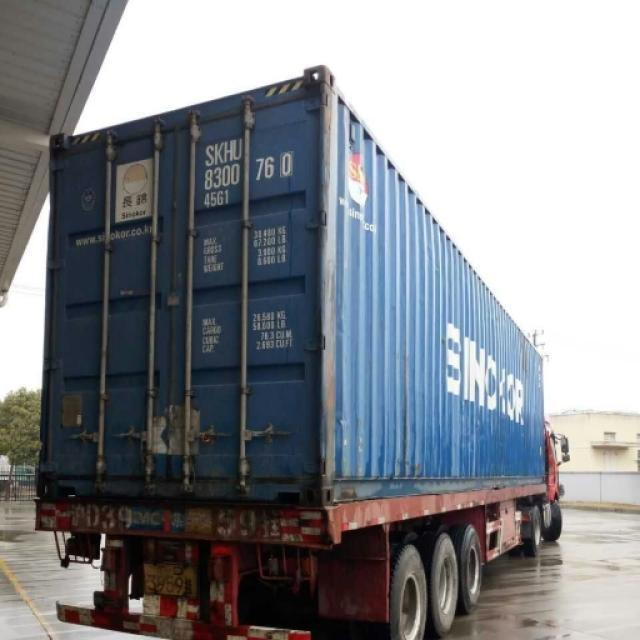ISO: (197, 190, 234, 214)
container_number: (200, 135, 306, 198)
